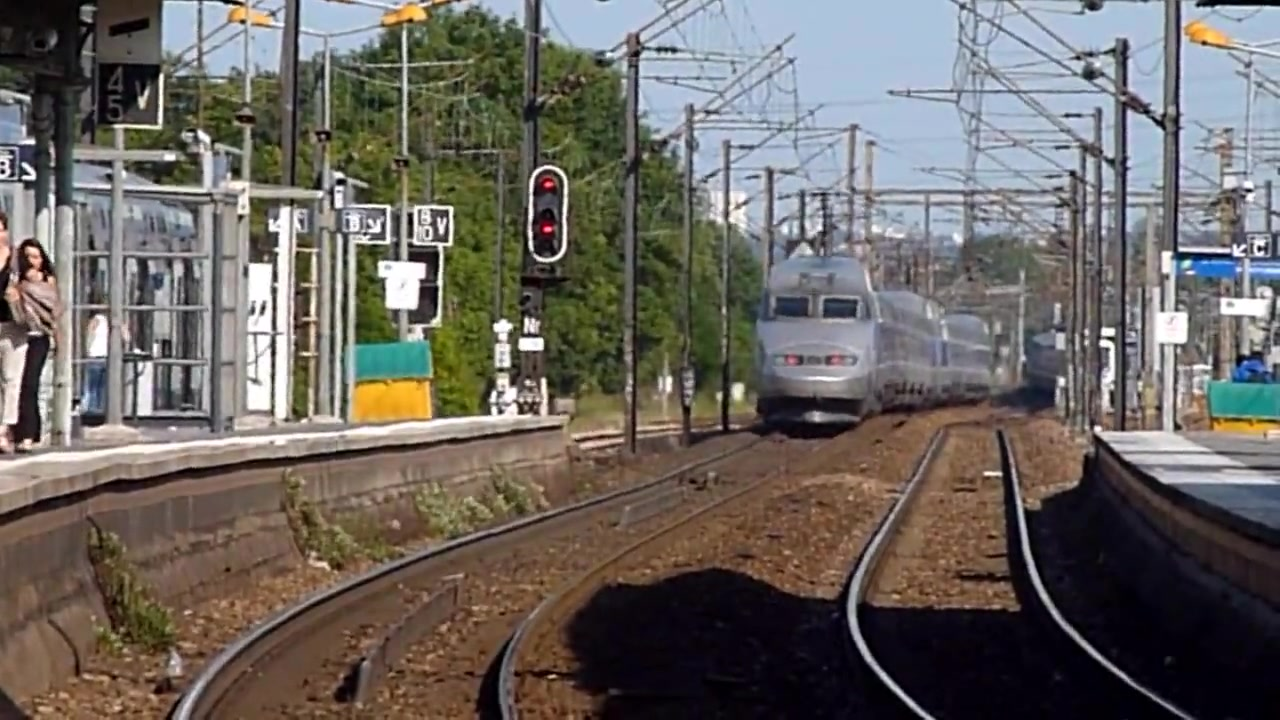train: (756, 244, 1000, 435)
